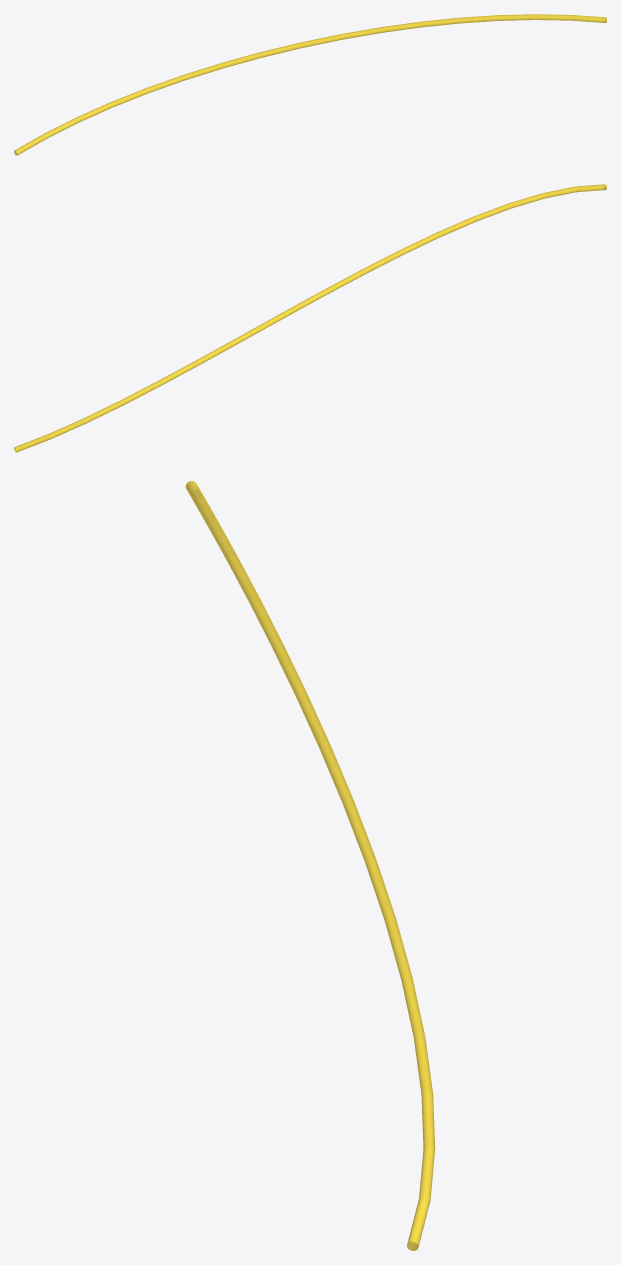
File: Event_15818458_track_56.fbx
The picture shows the model from 3 angles, top to bottom: view 1: azimuth 30°, elevation 25°; view 2: azimuth 210°, elevation 25°; view 3: azimuth 270°, elevation 25°; orthographic projection. The views are drawn at different scales.
Visible parts, largest first — view 1: Model; view 2: Model; view 3: Model.
Boxes of the visible parts, x1,y1,x2,y2 form: Model: [14, 14, 606, 155]; Model: [14, 184, 606, 452]; Model: [185, 481, 435, 1250].
Size of the model in its own units: 5.09 by 0.6404 by 0.8497.
